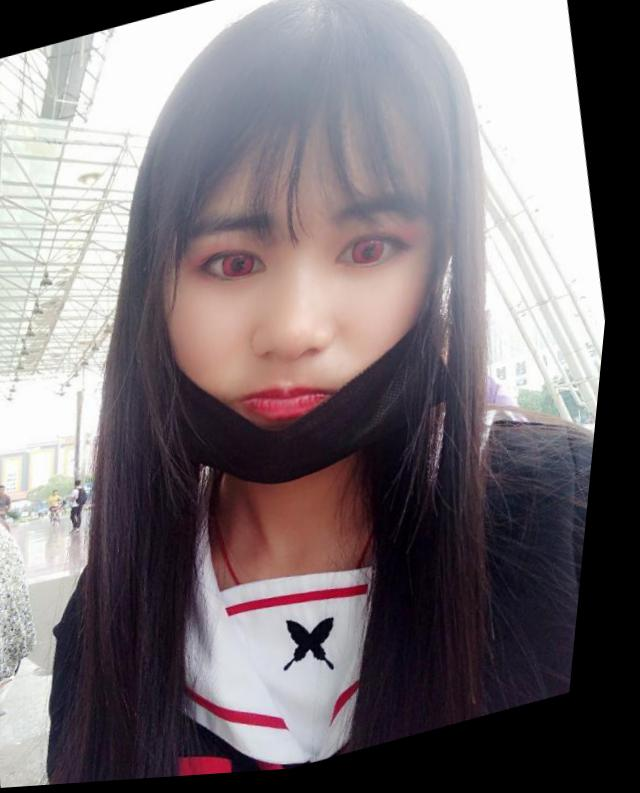WRONG: (122, 113, 494, 513)
